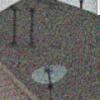chimneys: (80, 0, 84, 11)
